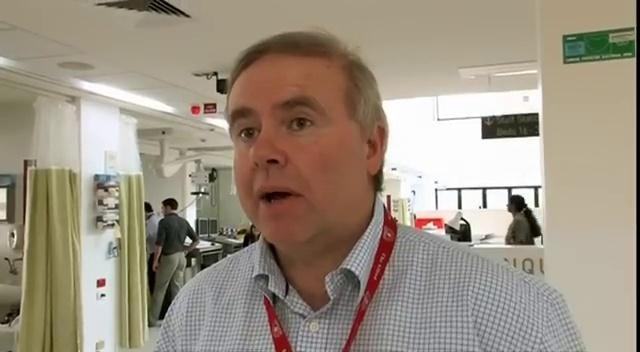others: (148, 28, 589, 351), (147, 197, 200, 327), (501, 193, 544, 247), (142, 199, 160, 266)
